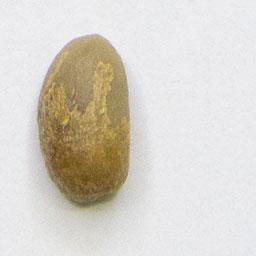longberry: (34, 30, 134, 205)
